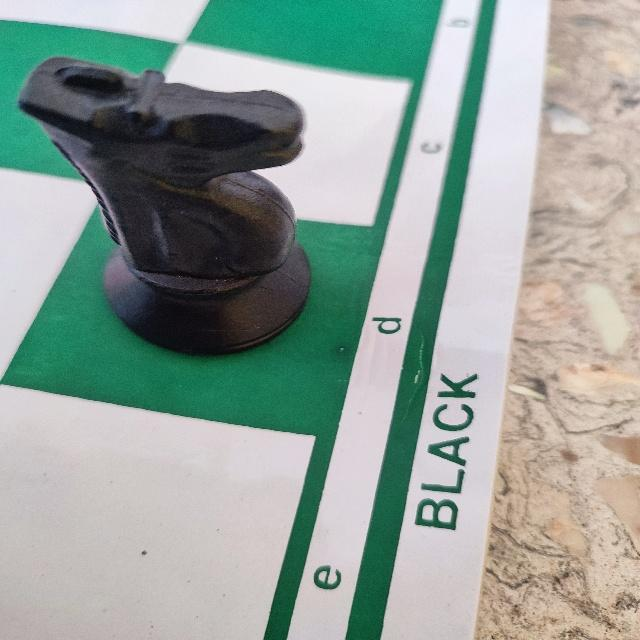Knight: (14, 53, 314, 358)
